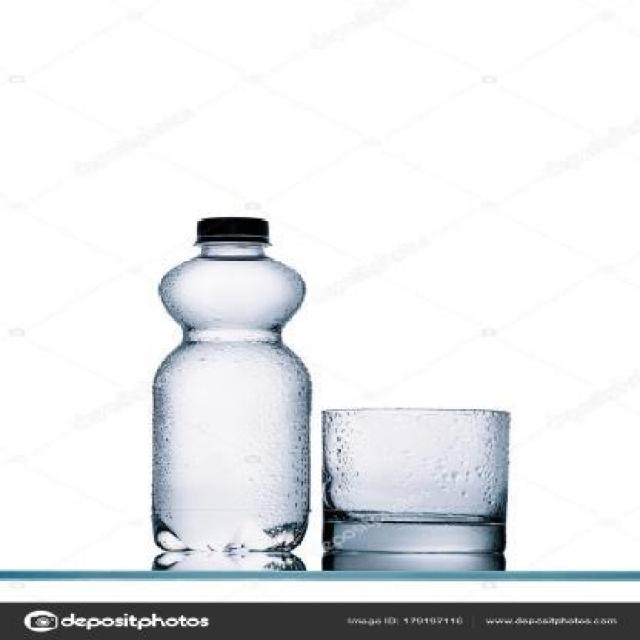bottle: (132, 190, 326, 568)
